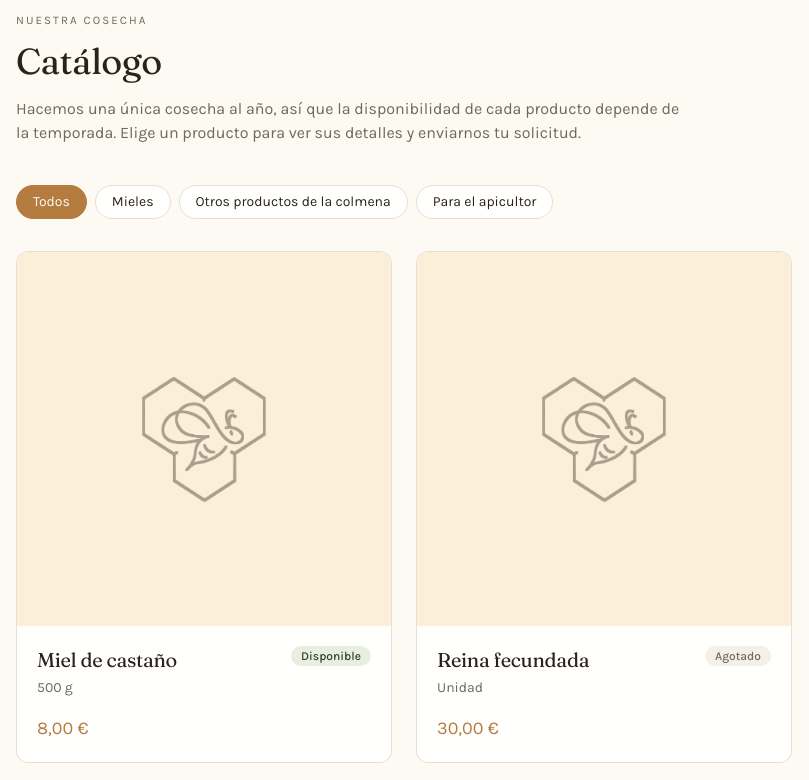
Test: CatalogView › el filtro muestra solo los productos de la categoría elegida
Click the button "Para el apicultor": (485, 202) left=416, top=185, right=553, bottom=219
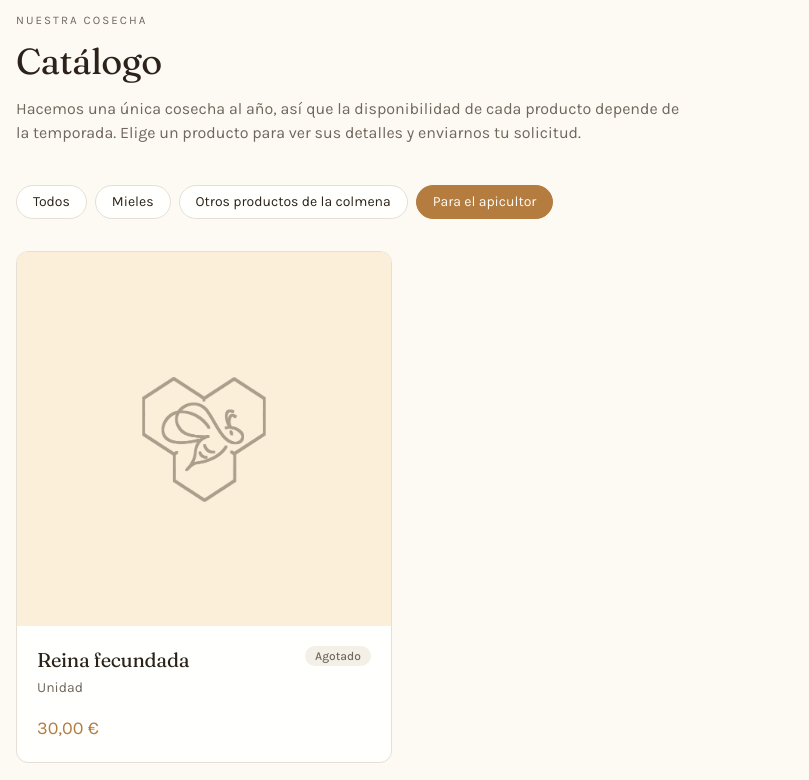
Expected: the list item "Reina fecundada Agotado Unidad 30,00 €" is shown, left=16, top=251, right=392, bottom=763
Result: the number of list items is 1 at left=16, top=251, right=392, bottom=763
Click the button "Todos": (51, 202) left=16, top=185, right=87, bottom=219
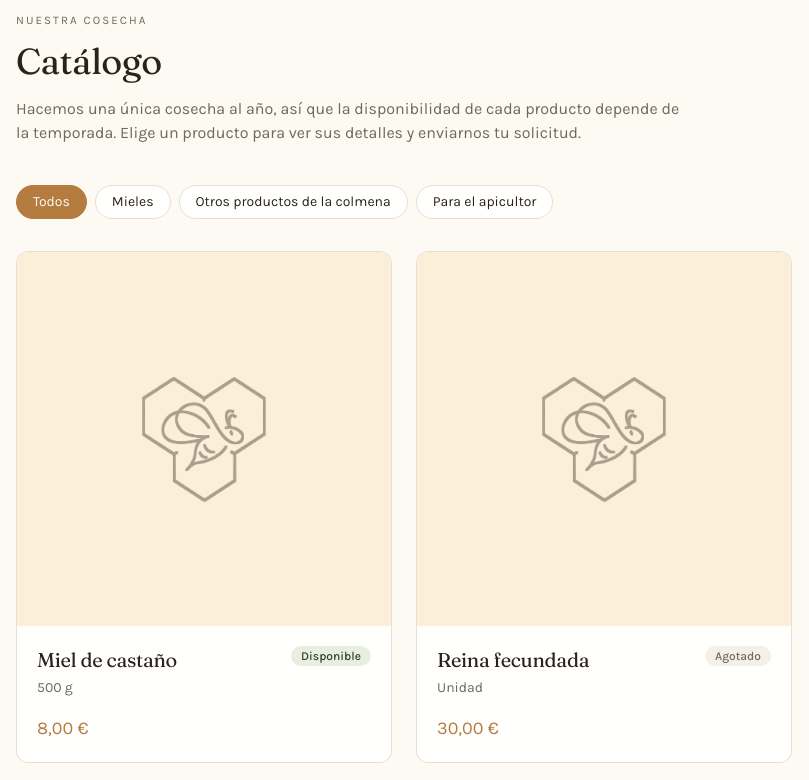
Result: the number of list items is 2 at left=16, top=251, right=392, bottom=763; left=416, top=251, right=792, bottom=763
